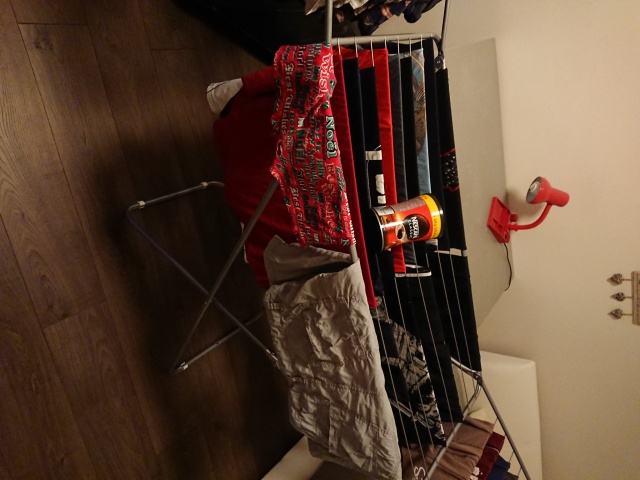Nescafe Classic 225g: (362, 190, 449, 255)
